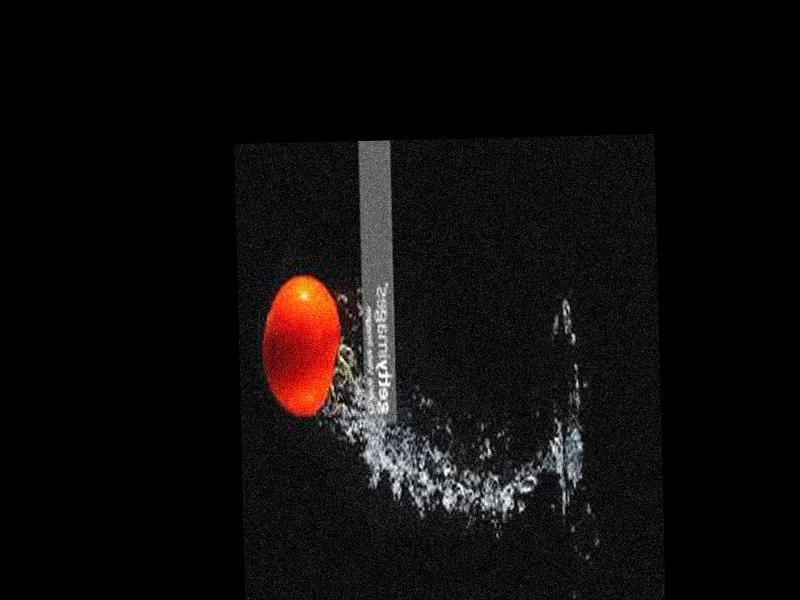Tomato: (263, 275, 342, 418)
